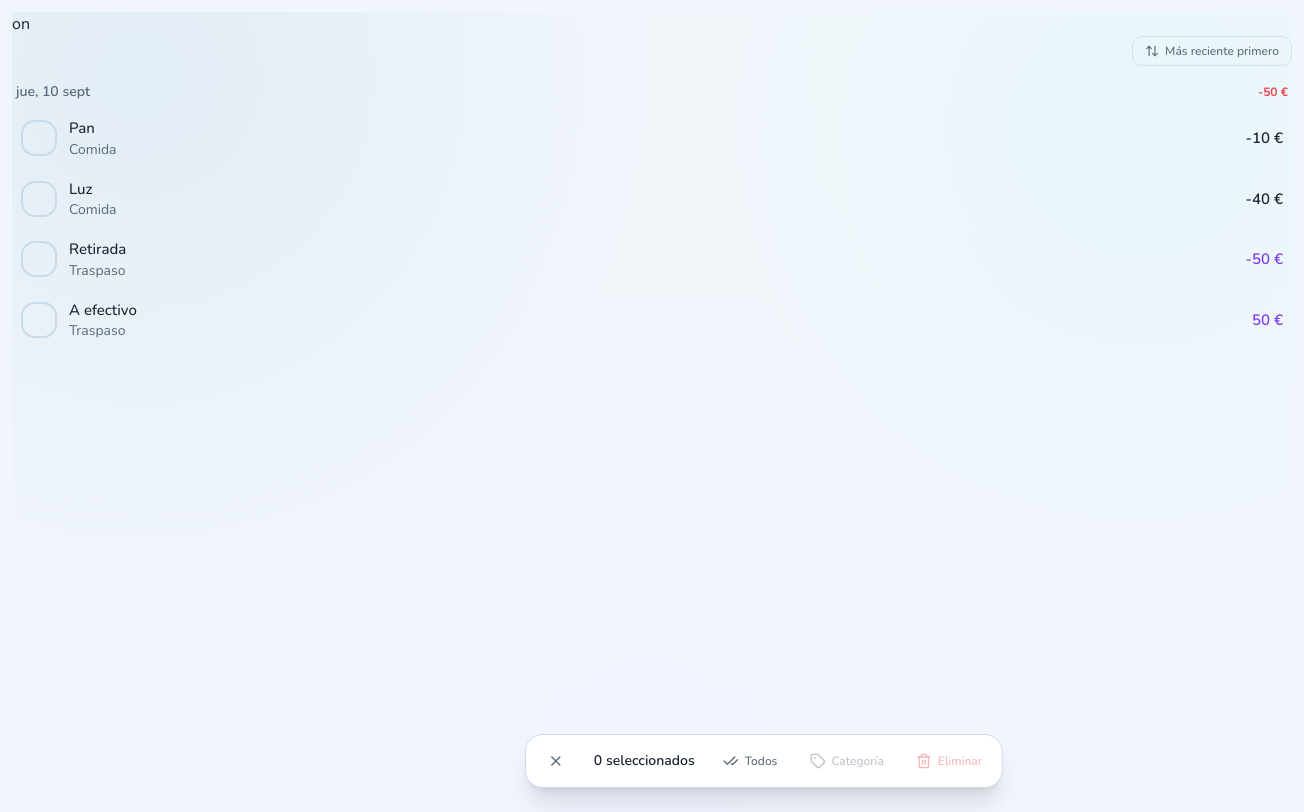
Test: ExpenseList selection mode › leaves with the close button, dropping the selection
Click the text "Pan". click: [82, 128]
box: [69, 118, 95, 138]
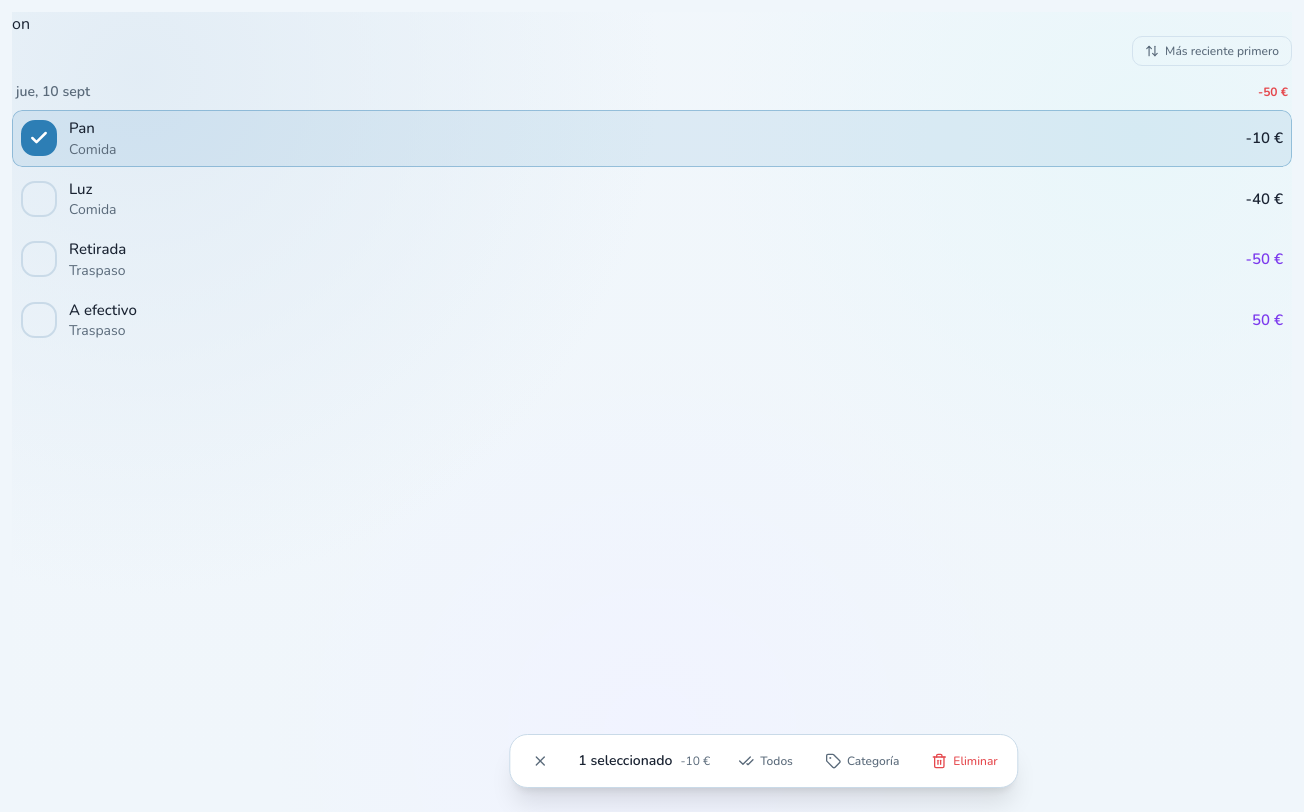
Click the button named "Salir de la selección". click: [540, 761]
box: [518, 743, 562, 779]
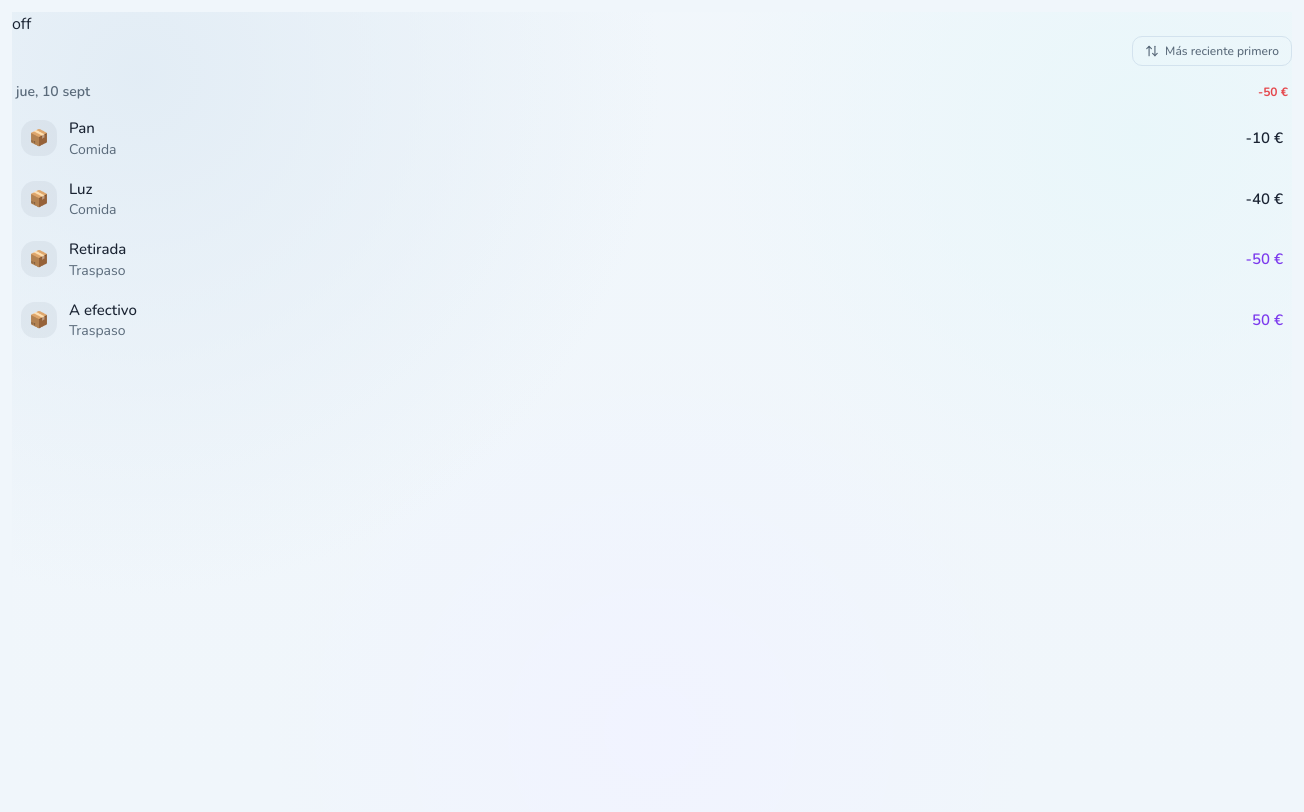
Expected: the text with test id "mode" reads "off", [12, 13, 31, 35]
